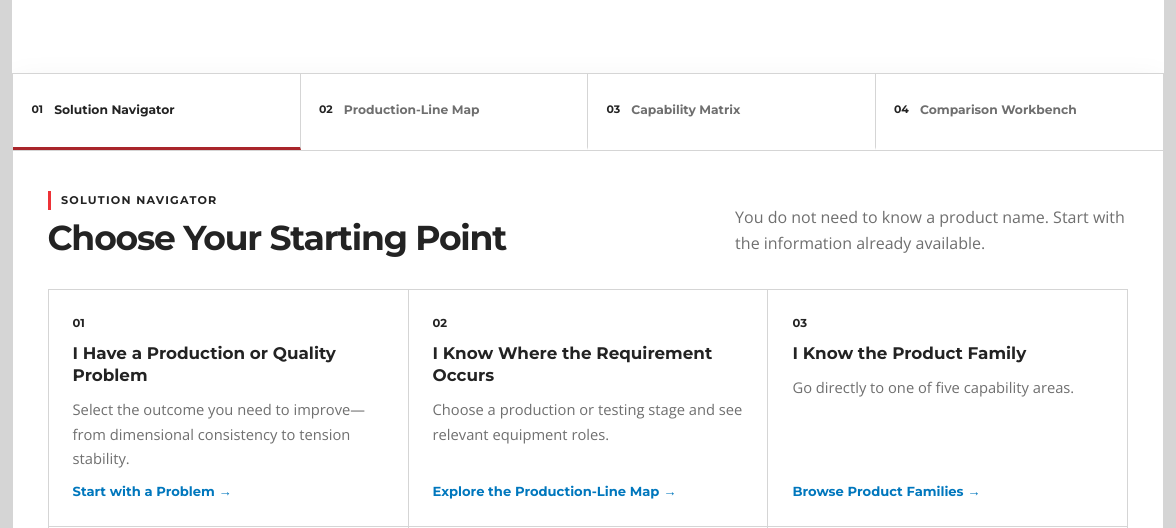
Test: capability explorer interactions › lets visitors select a product and models directly in the comparison tab
Click the tab "04 Comparison Workbench".
click(1019, 112)  # box [876,74,1163,150]
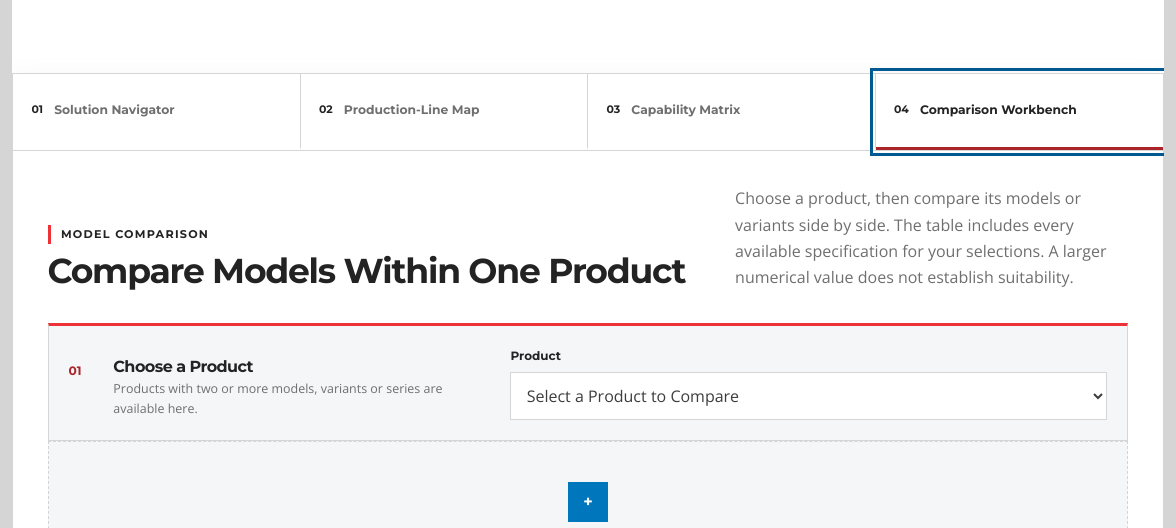
Select "Pneumatic Brake (3 models / variants)" in the dropdown labelled "Product" at (809, 396), box [510,372,1107,420]
(page scrolled)
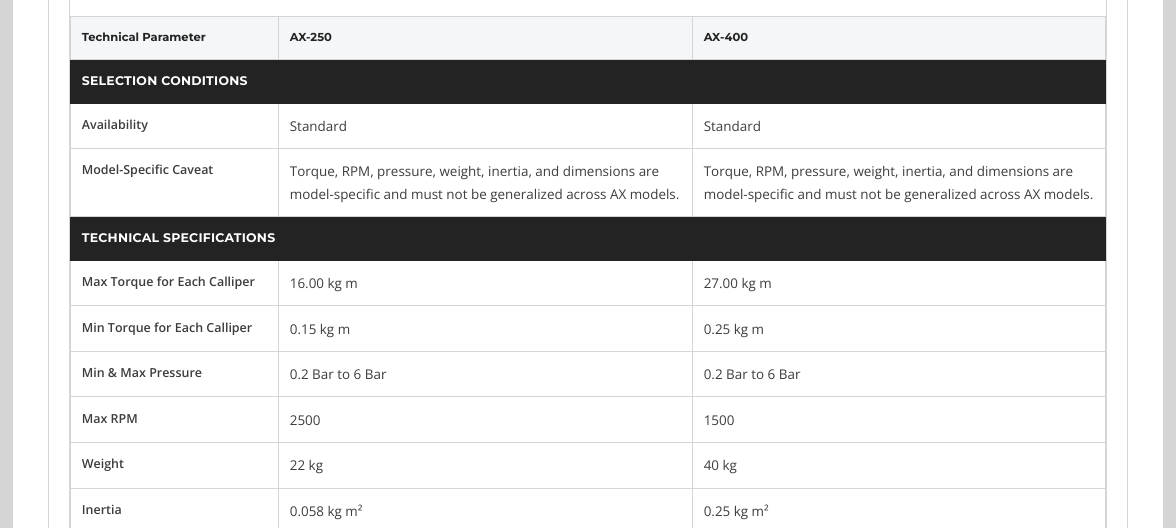
expect the column heading "Max Torque for Each Calliper" is shown: met, box [70,260,278,306]
expect the column heading "Max RPM" is shown: met, box [70,397,278,442]
